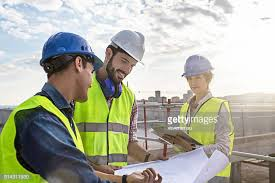helmet: (37, 31, 103, 72), (113, 27, 149, 64), (182, 53, 215, 78)
vest: (2, 99, 84, 183), (92, 85, 136, 172), (181, 102, 232, 177)
